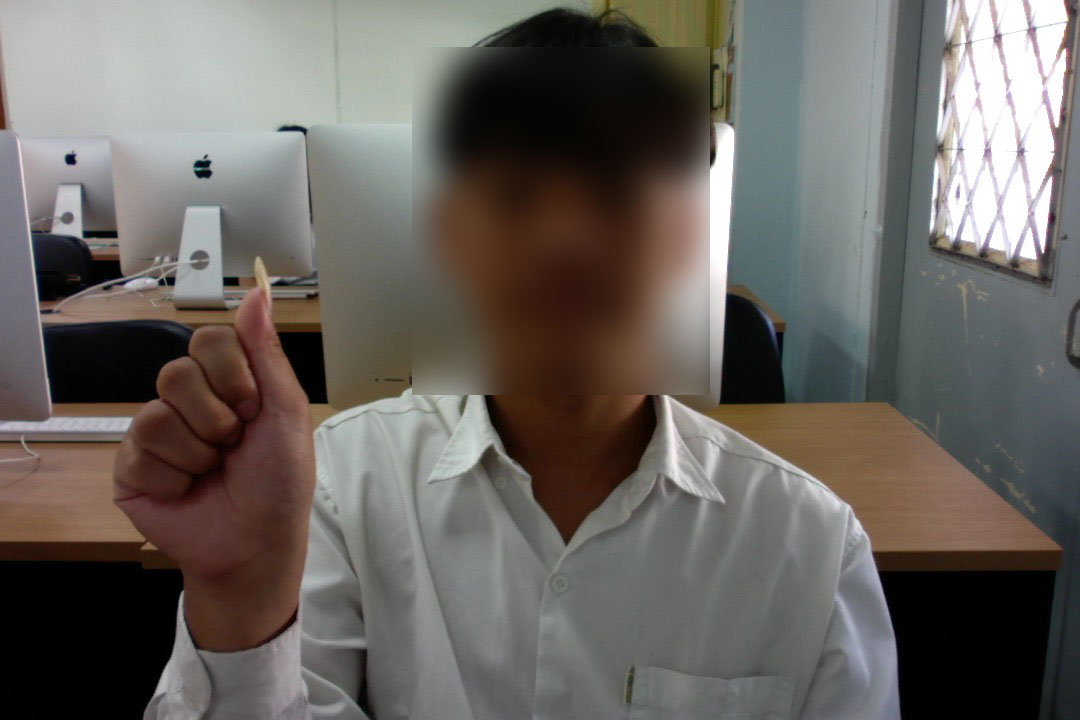or: (101, 243, 362, 602)
